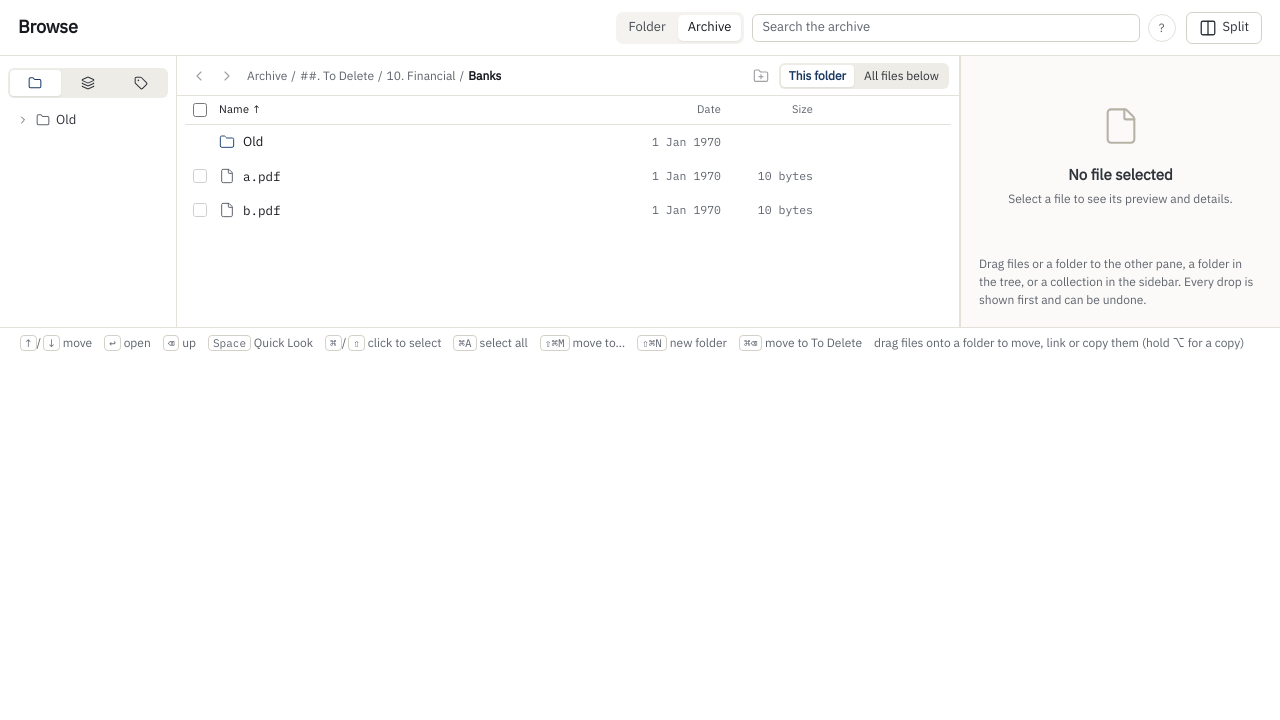
Scenario: Restore › a selection: Restore to Inbox restores every checked item in one batch
Expected: the text "a.pdf" is shown, [243,167,280,185]
Click the checkbox named "Select all files": click(200, 110) [193,103,207,117]
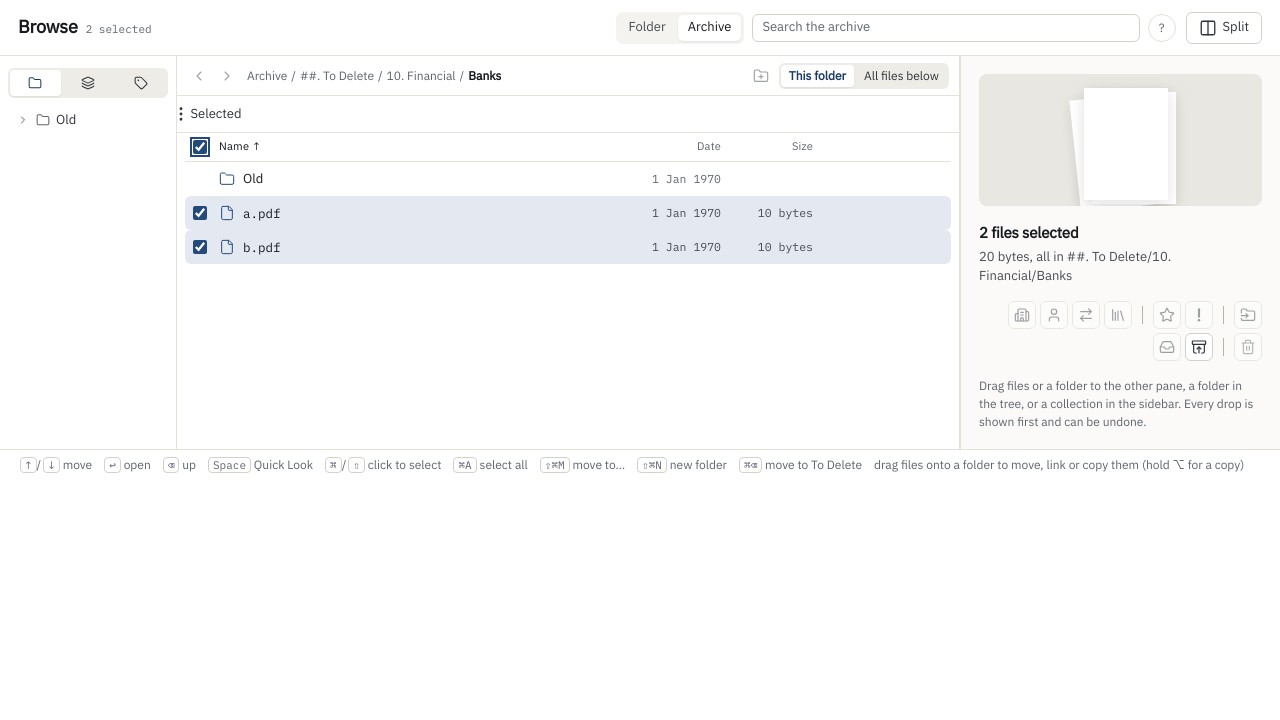
Click the button named "Restore from To Delete": click(1199, 347) [1185,333,1213,361]
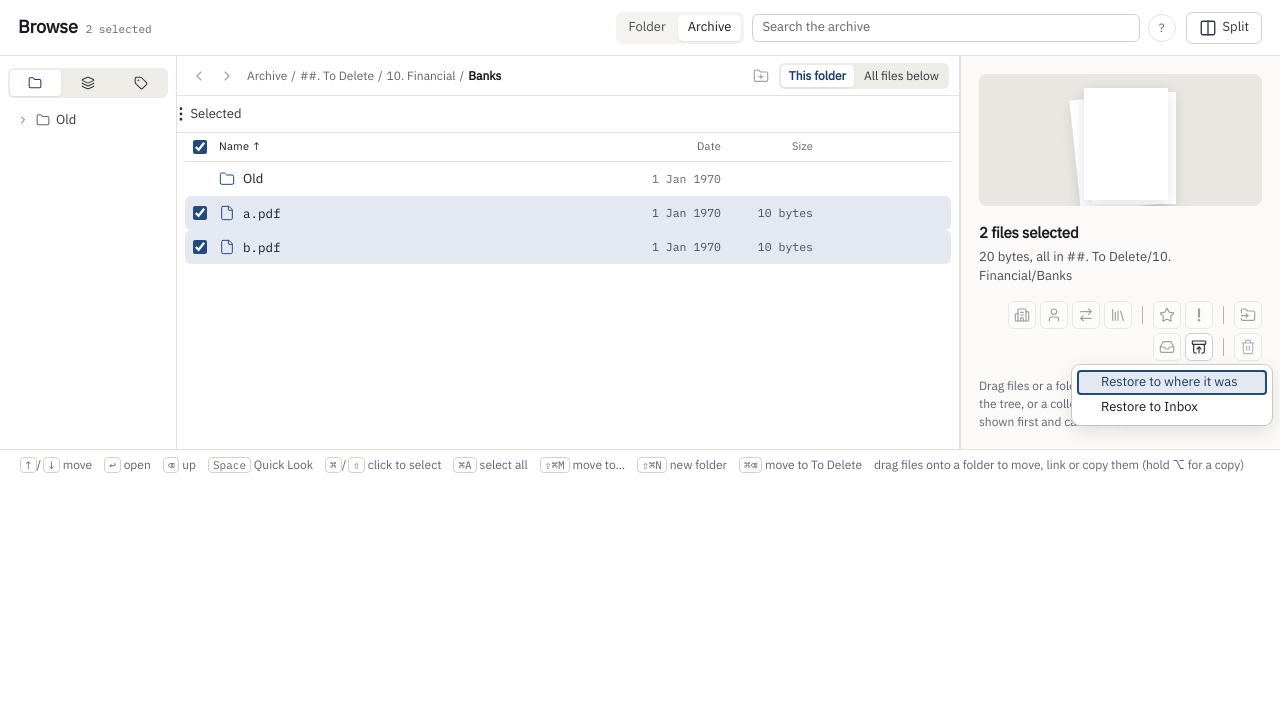
Click the menu item "Restore to Inbox": click(1172, 408) [1077,395,1267,420]
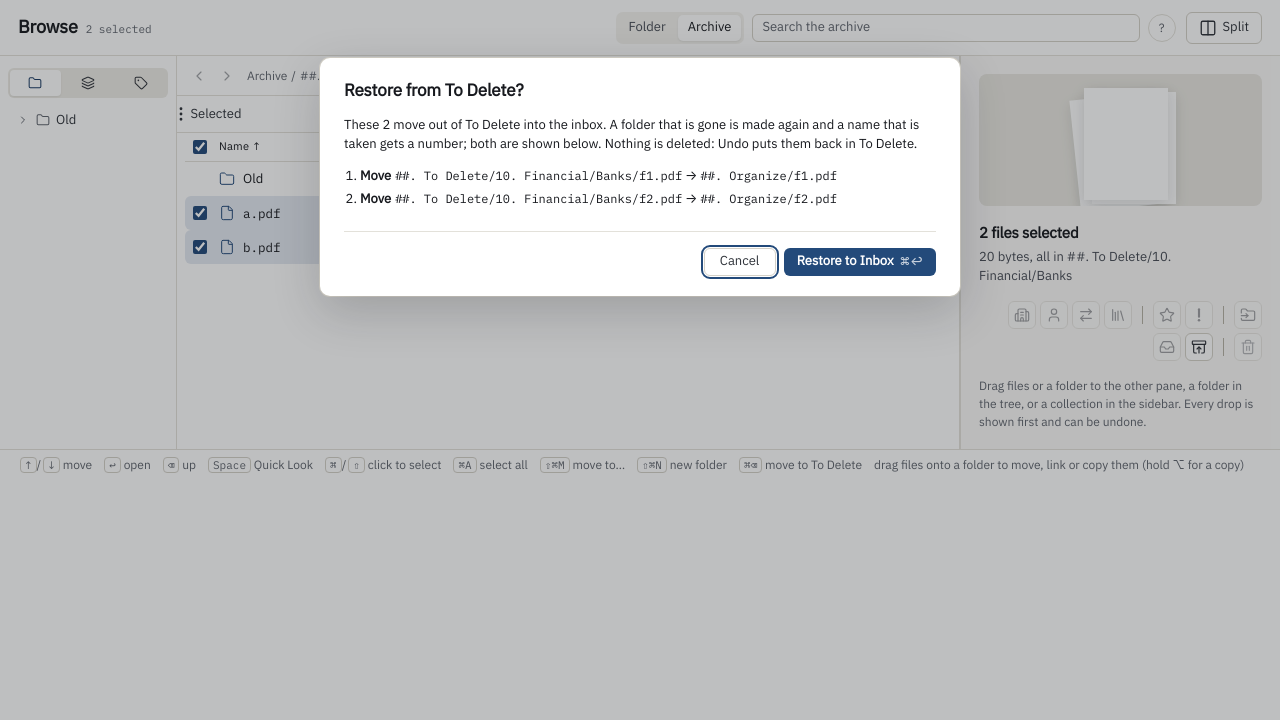
Now the dialog "Restore from To Delete?" shows "These 2 move out of To Delete into the inbox", box [320,58,960,296]
Click the button "Restore to Inbox⌘↩": click(860, 262) [784,248,936,276]
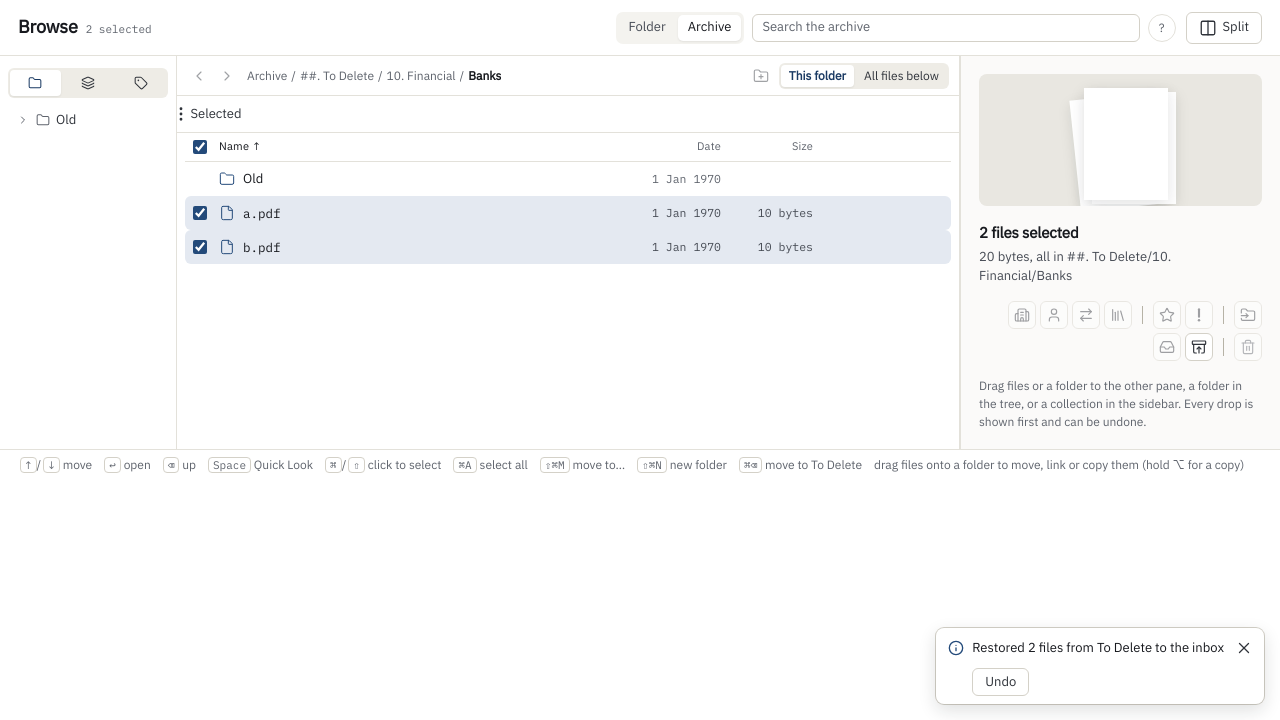
Now the text "Restored 2 files from To Delete to the inbox" is shown, box [972,639,1224,657]
